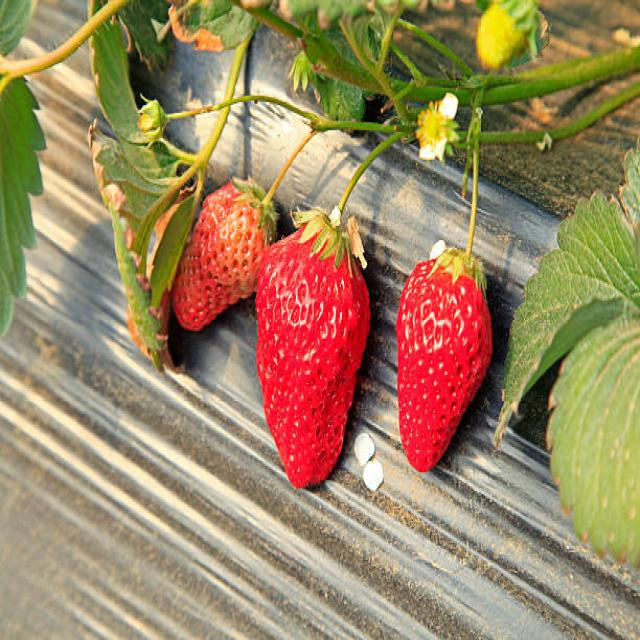Healthy Fruit: (255, 225, 372, 490), (394, 256, 494, 473), (172, 182, 269, 334)
